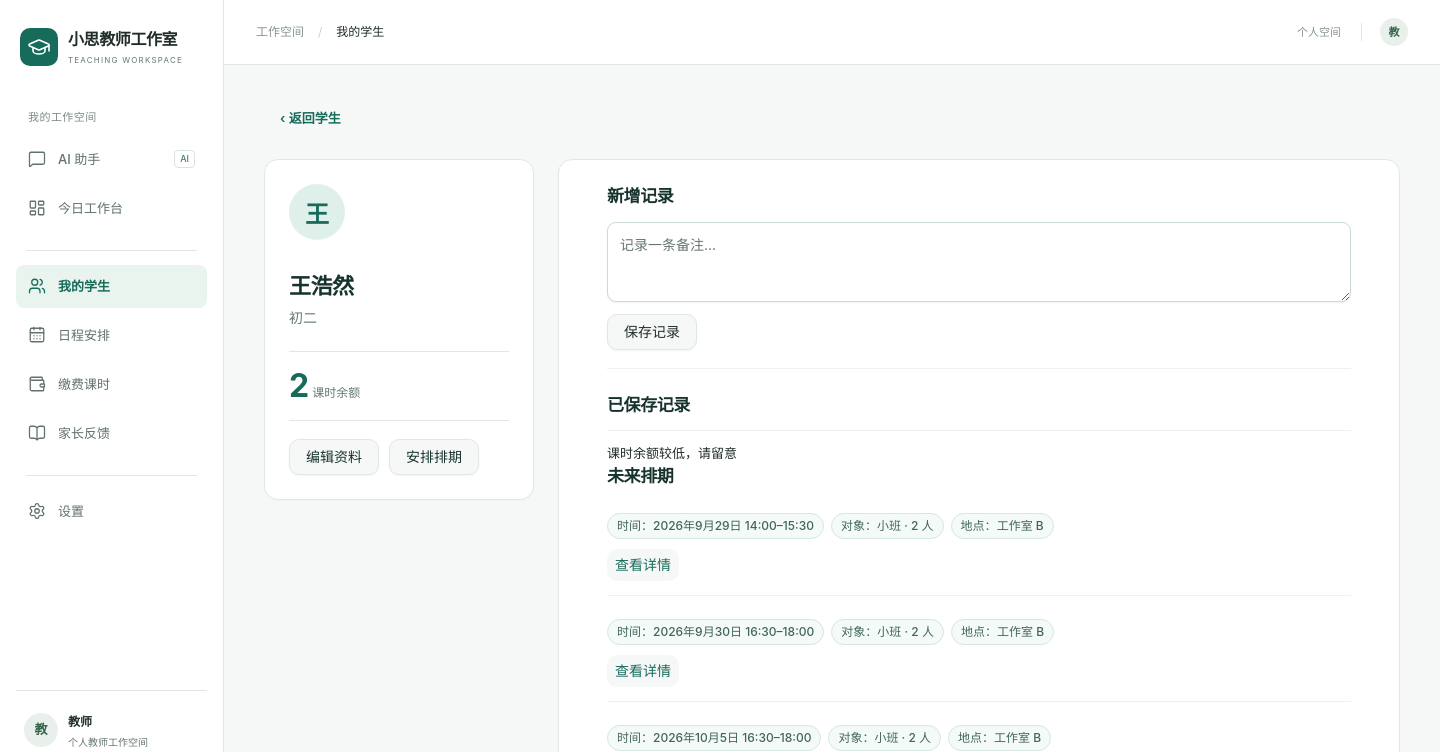
学生页面交互修复 › 空白记录保存有反馈且不写入
The width and height of the screenshot is (1440, 752).
Click the button "保存记录" at (652,332), box [607,314,697,350]
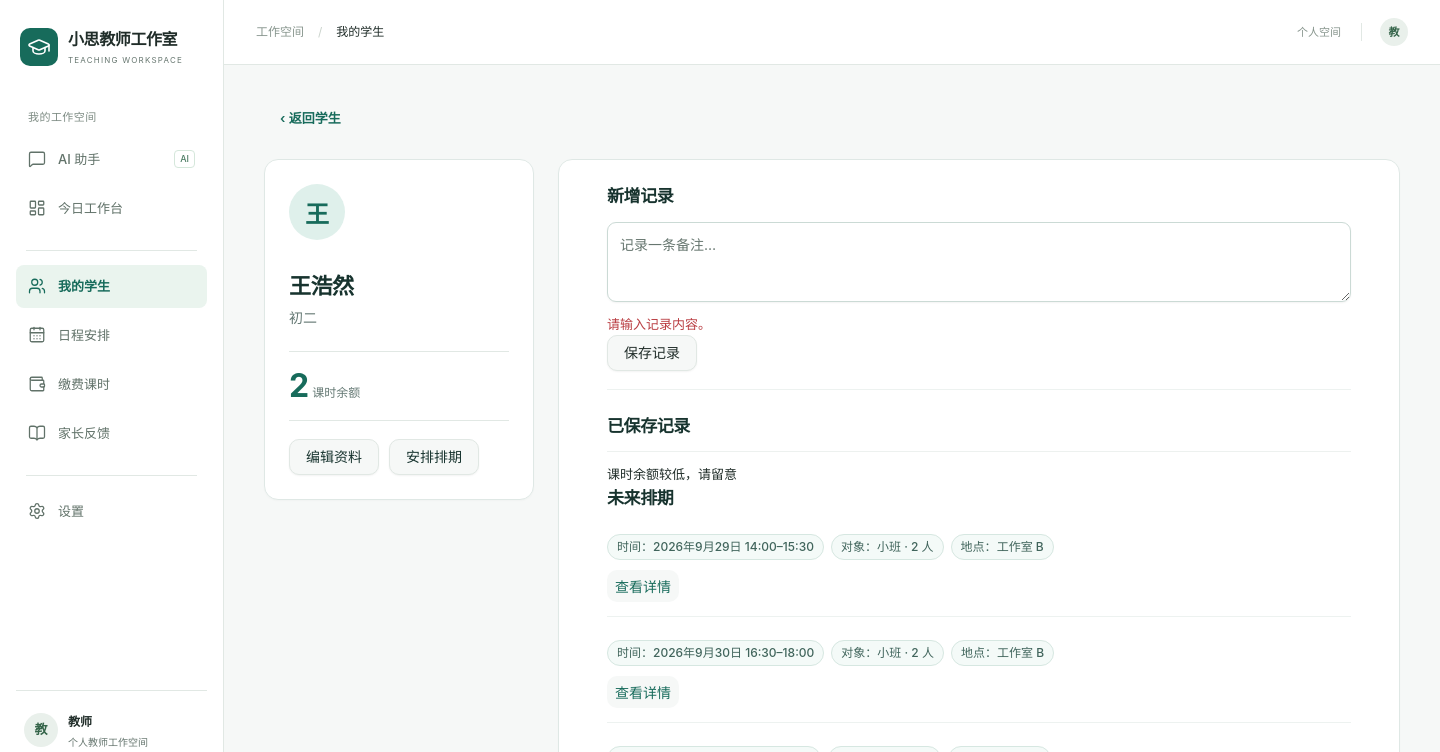
Expected: the text "课时余额较低，请留意" is shown, [607,451,1351,486]
Expected: the message shows "请输入记录内容", [607,316,711,332]
